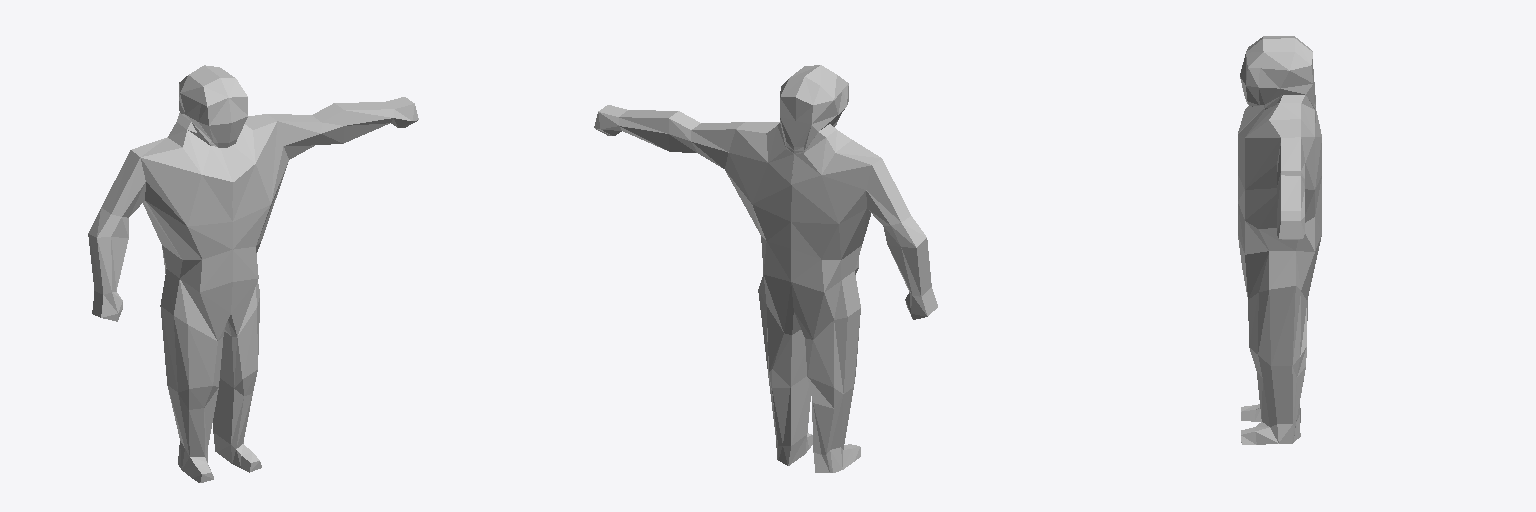
Rendered from PlaceholderTest.obj.
3 renders of one model, left to right at view 1: azimuth 30°, elevation 25°; view 2: azimuth 150°, elevation 25°; view 3: azimuth 270°, elevation 25°, orthographic.
Parts seen in each view (by area): view 1: Cubo_Cubomesh.002; view 2: Cubo_Cubomesh.002; view 3: Cubo_Cubomesh.002.
Boxes of the visible parts, x1=… form: Cubo_Cubomesh.002: x1=88, y1=65, x2=418, y2=482; Cubo_Cubomesh.002: x1=594, y1=65, x2=937, y2=472; Cubo_Cubomesh.002: x1=1238, y1=36, x2=1321, y2=444.
Size of the model in its own units: 3.48 by 4 by 0.7821.